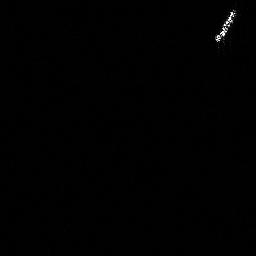ship: (209, 4, 240, 45)
